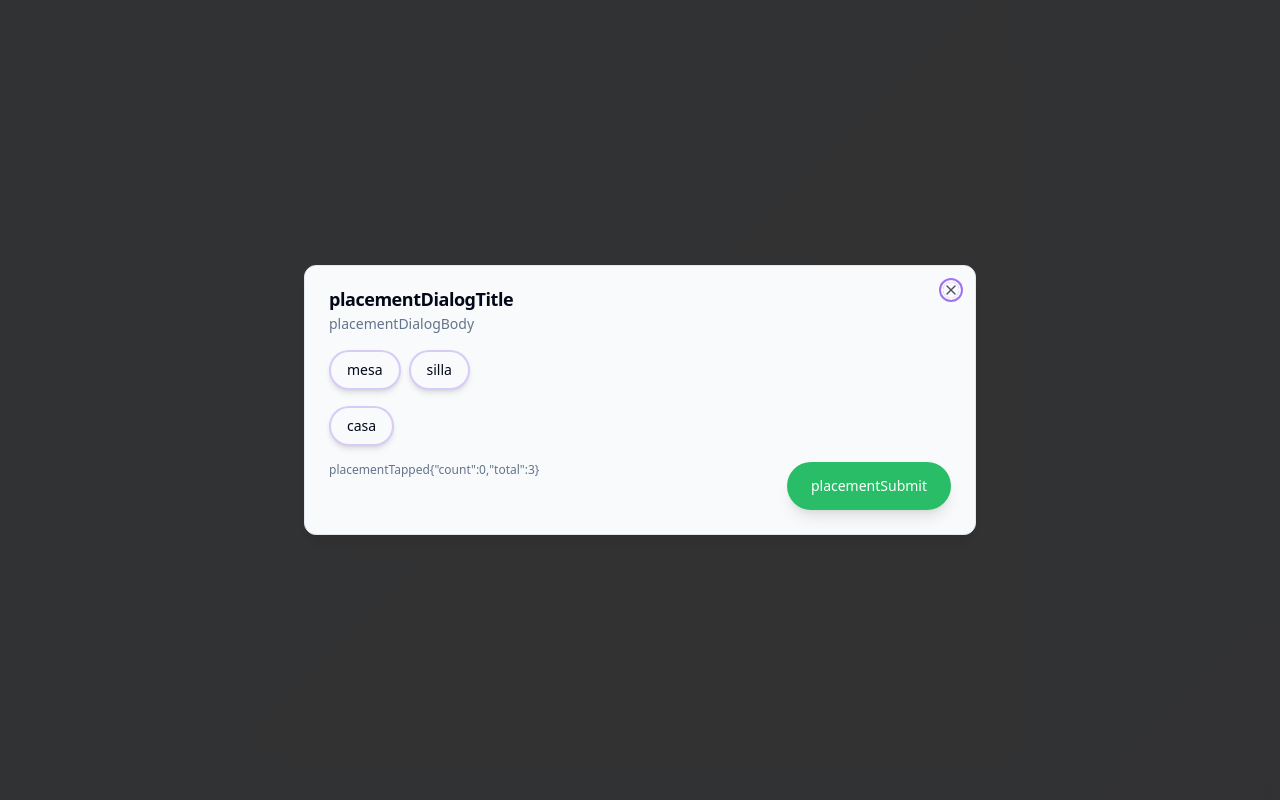
PlacementCheck › reports a failed check without closing
Check: the element with test id "placement-words" is shown, box [329,350,470,446]
Click the button "placementSubmit": (869, 486) [787,462,951,510]
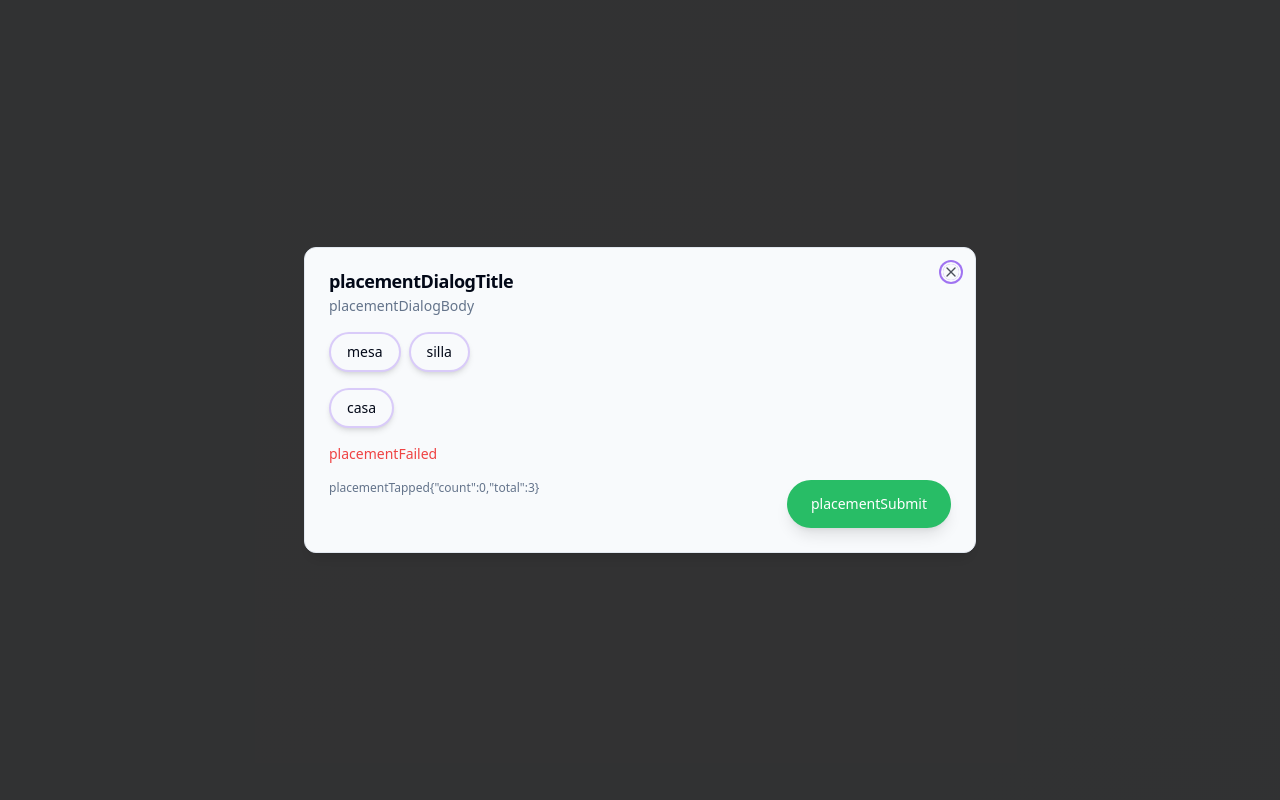
Check: the text "placementFailed" is shown, box [329,444,437,463]
